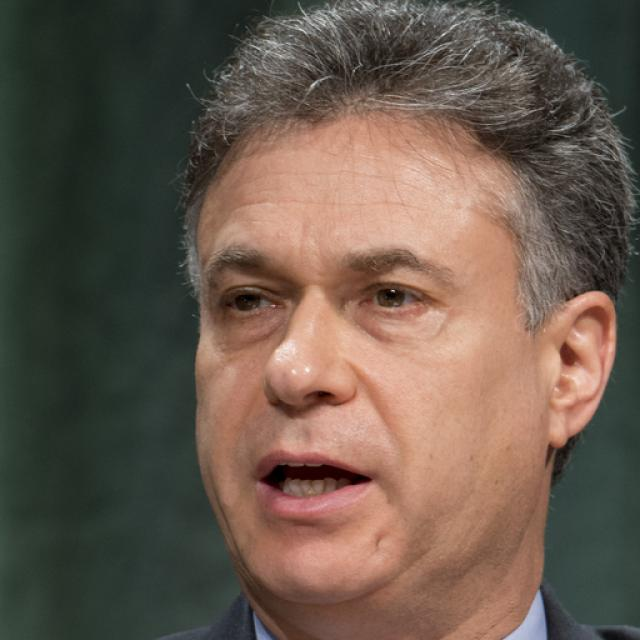Acne: (267, 223, 291, 246)
Dark Circle: (345, 308, 439, 342), (221, 307, 286, 350)
Wrinkle: (232, 166, 437, 201), (234, 190, 435, 217), (349, 365, 390, 433)
